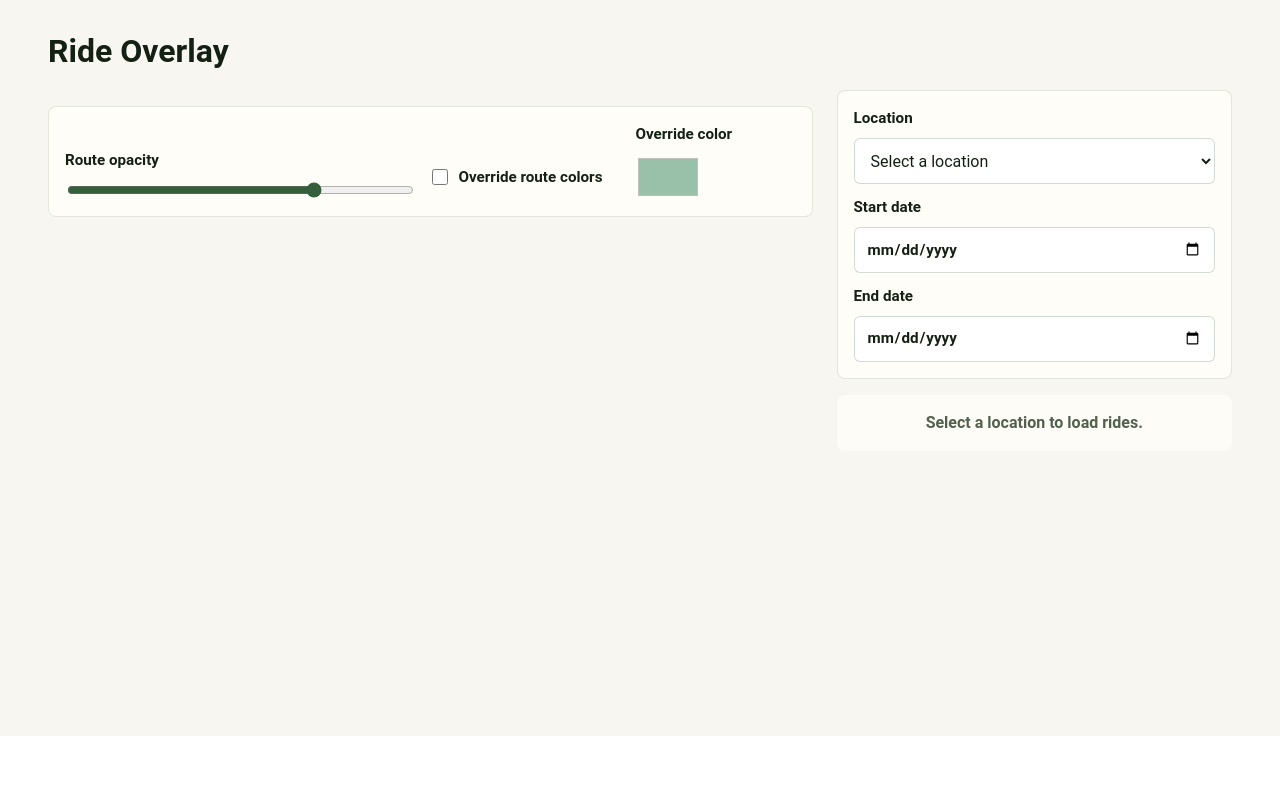
Test: RideOverlayView › loads more rides by appending the next page
Select "North Park" in the dropdown with id "overlay-location". click: point(1034, 161)
box: [854, 138, 1215, 184]
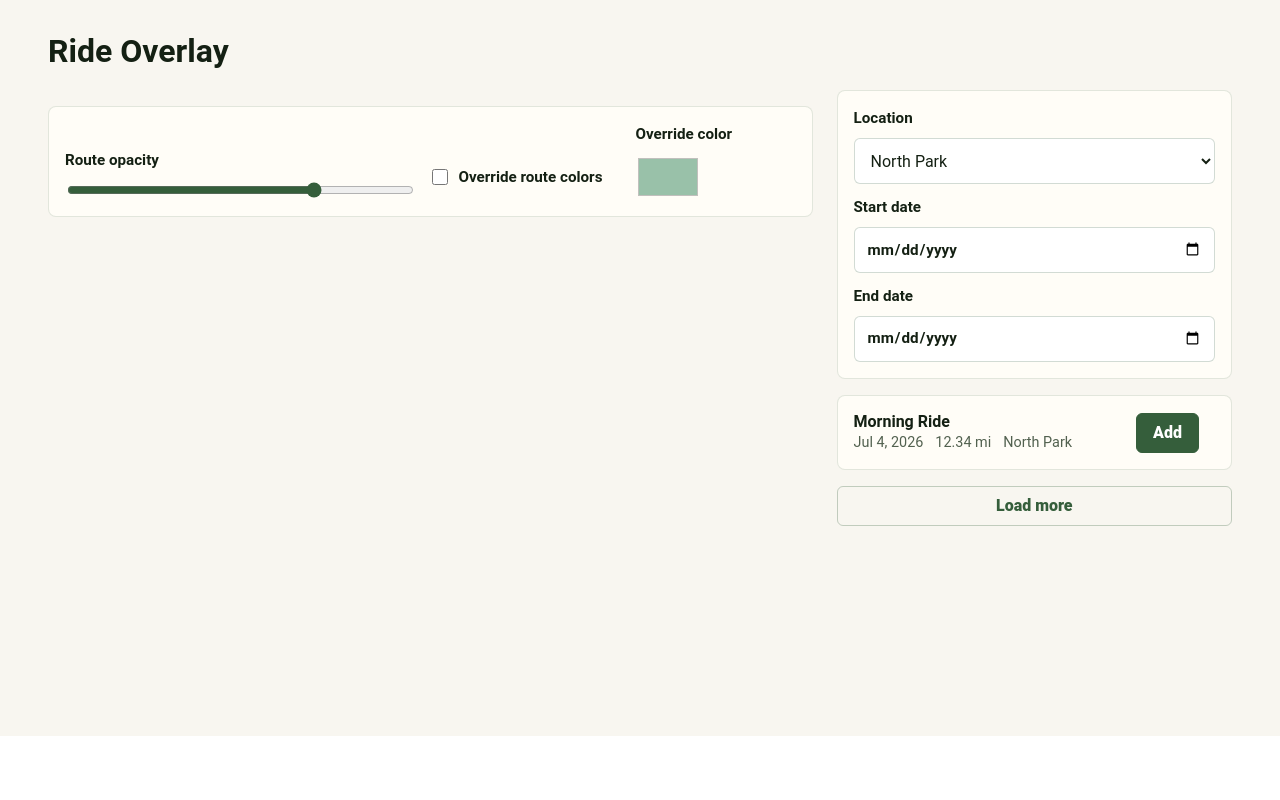
Click the button "Load more". click: point(1034, 506)
box: [836, 486, 1232, 526]
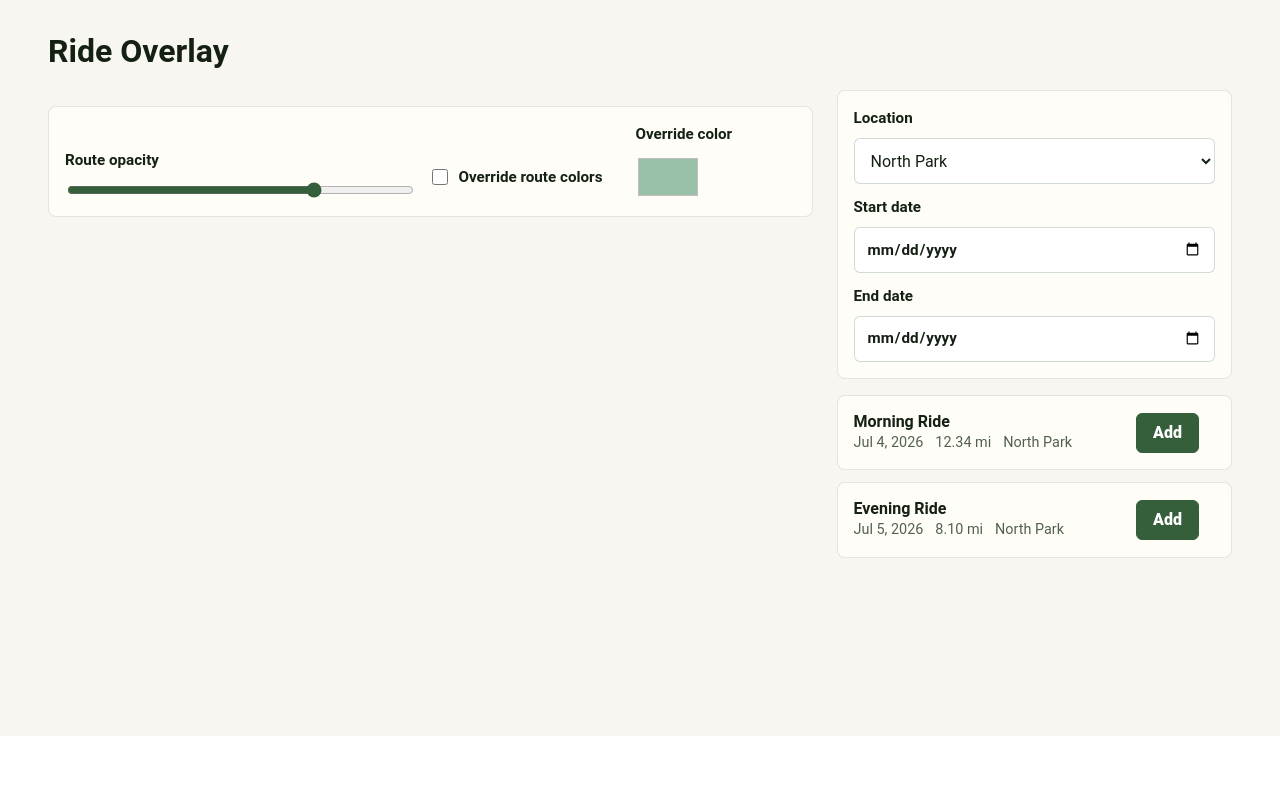
Expected: the text "Morning Ride" is shown, [854, 412, 950, 431]
Expected: the text "Evening Ride" is shown, [854, 500, 946, 518]
